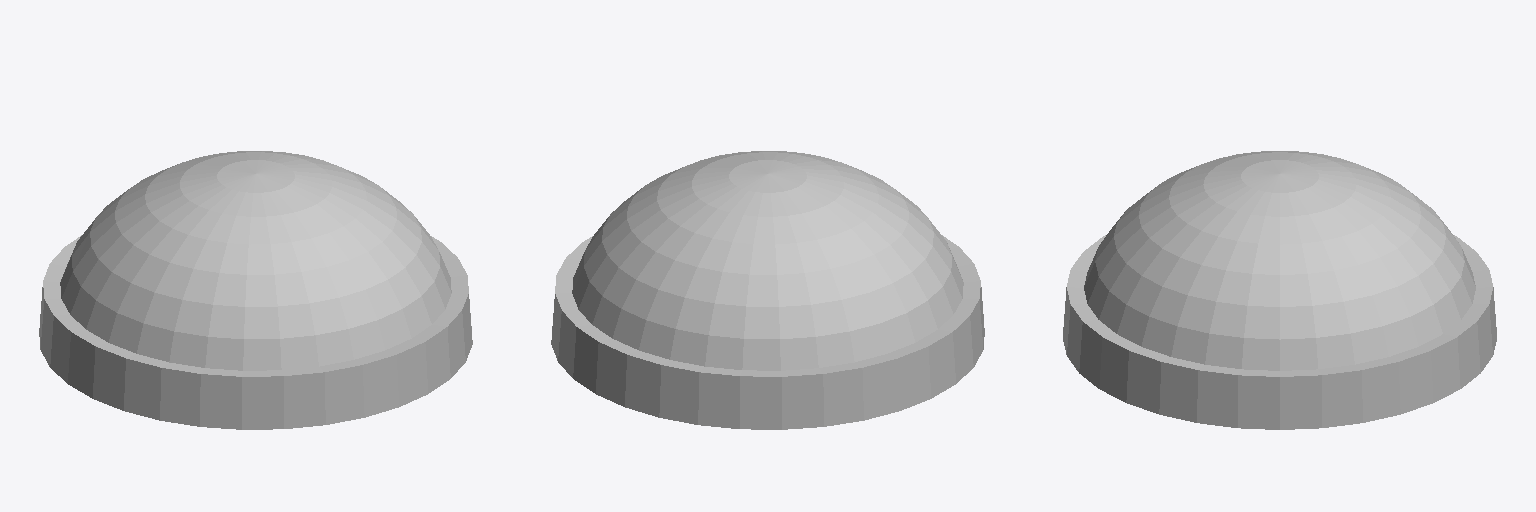
File: Table_Light.obj
3 views of the same model, side by side, from view 1: azimuth 30°, elevation 25°; view 2: azimuth 150°, elevation 25°; view 3: azimuth 270°, elevation 25° (orthographic).
Visible parts, largest first — view 1: Table_Light; view 2: Table_Light; view 3: Table_Light.
Boxes of the visible parts, <box> form: Table_Light: <box>39,151,472,429</box>; Table_Light: <box>551,151,984,429</box>; Table_Light: <box>1063,151,1496,429</box>.
Size of the model in its own units: 0.5291 by 0.2211 by 0.5291.